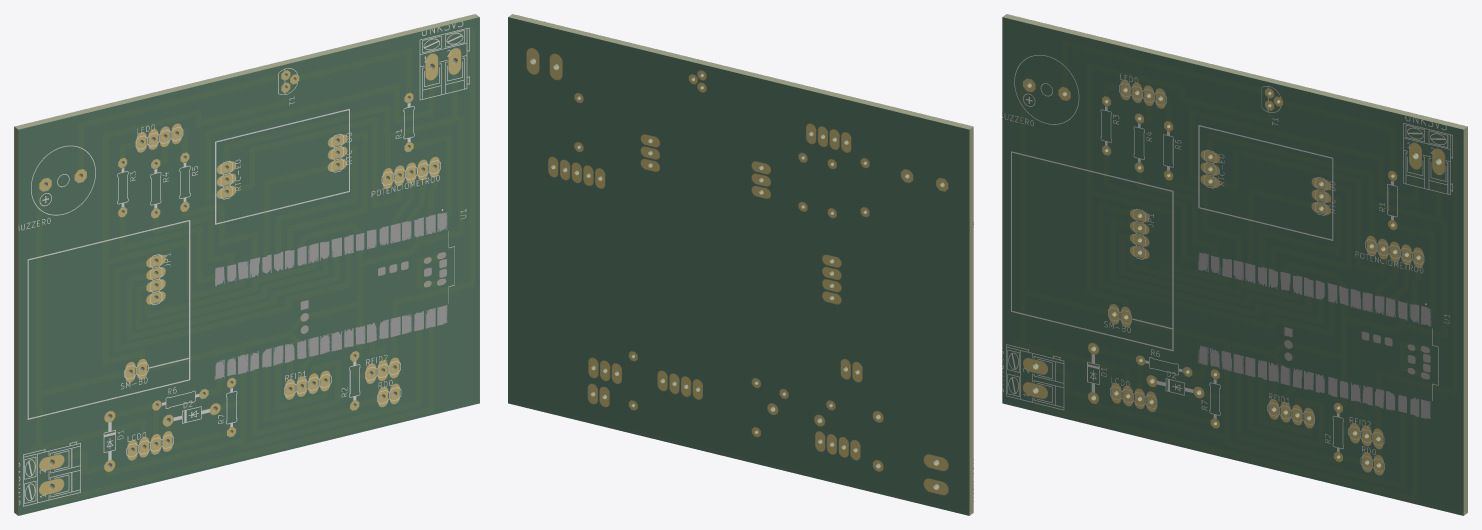
The model's file is carebox.glb.
The picture shows the model from 3 angles, left to right: view 1: azimuth 30°, elevation 25°; view 2: azimuth 150°, elevation 25°; view 3: azimuth 330°, elevation 25°; orthographic projection.
Visible parts, largest first — view 1: Shape (×6); view 2: Shape (×4); view 3: Shape (×6).
Boxes of the visible parts, x1,y1,x2,y2 form: Shape (×6): [14, 14, 479, 515]; Shape (×4): [508, 14, 973, 515]; Shape (×6): [1002, 14, 1467, 515].
Bounding box in the file's own units: 0.1 × 0.08 × 0.00169.
